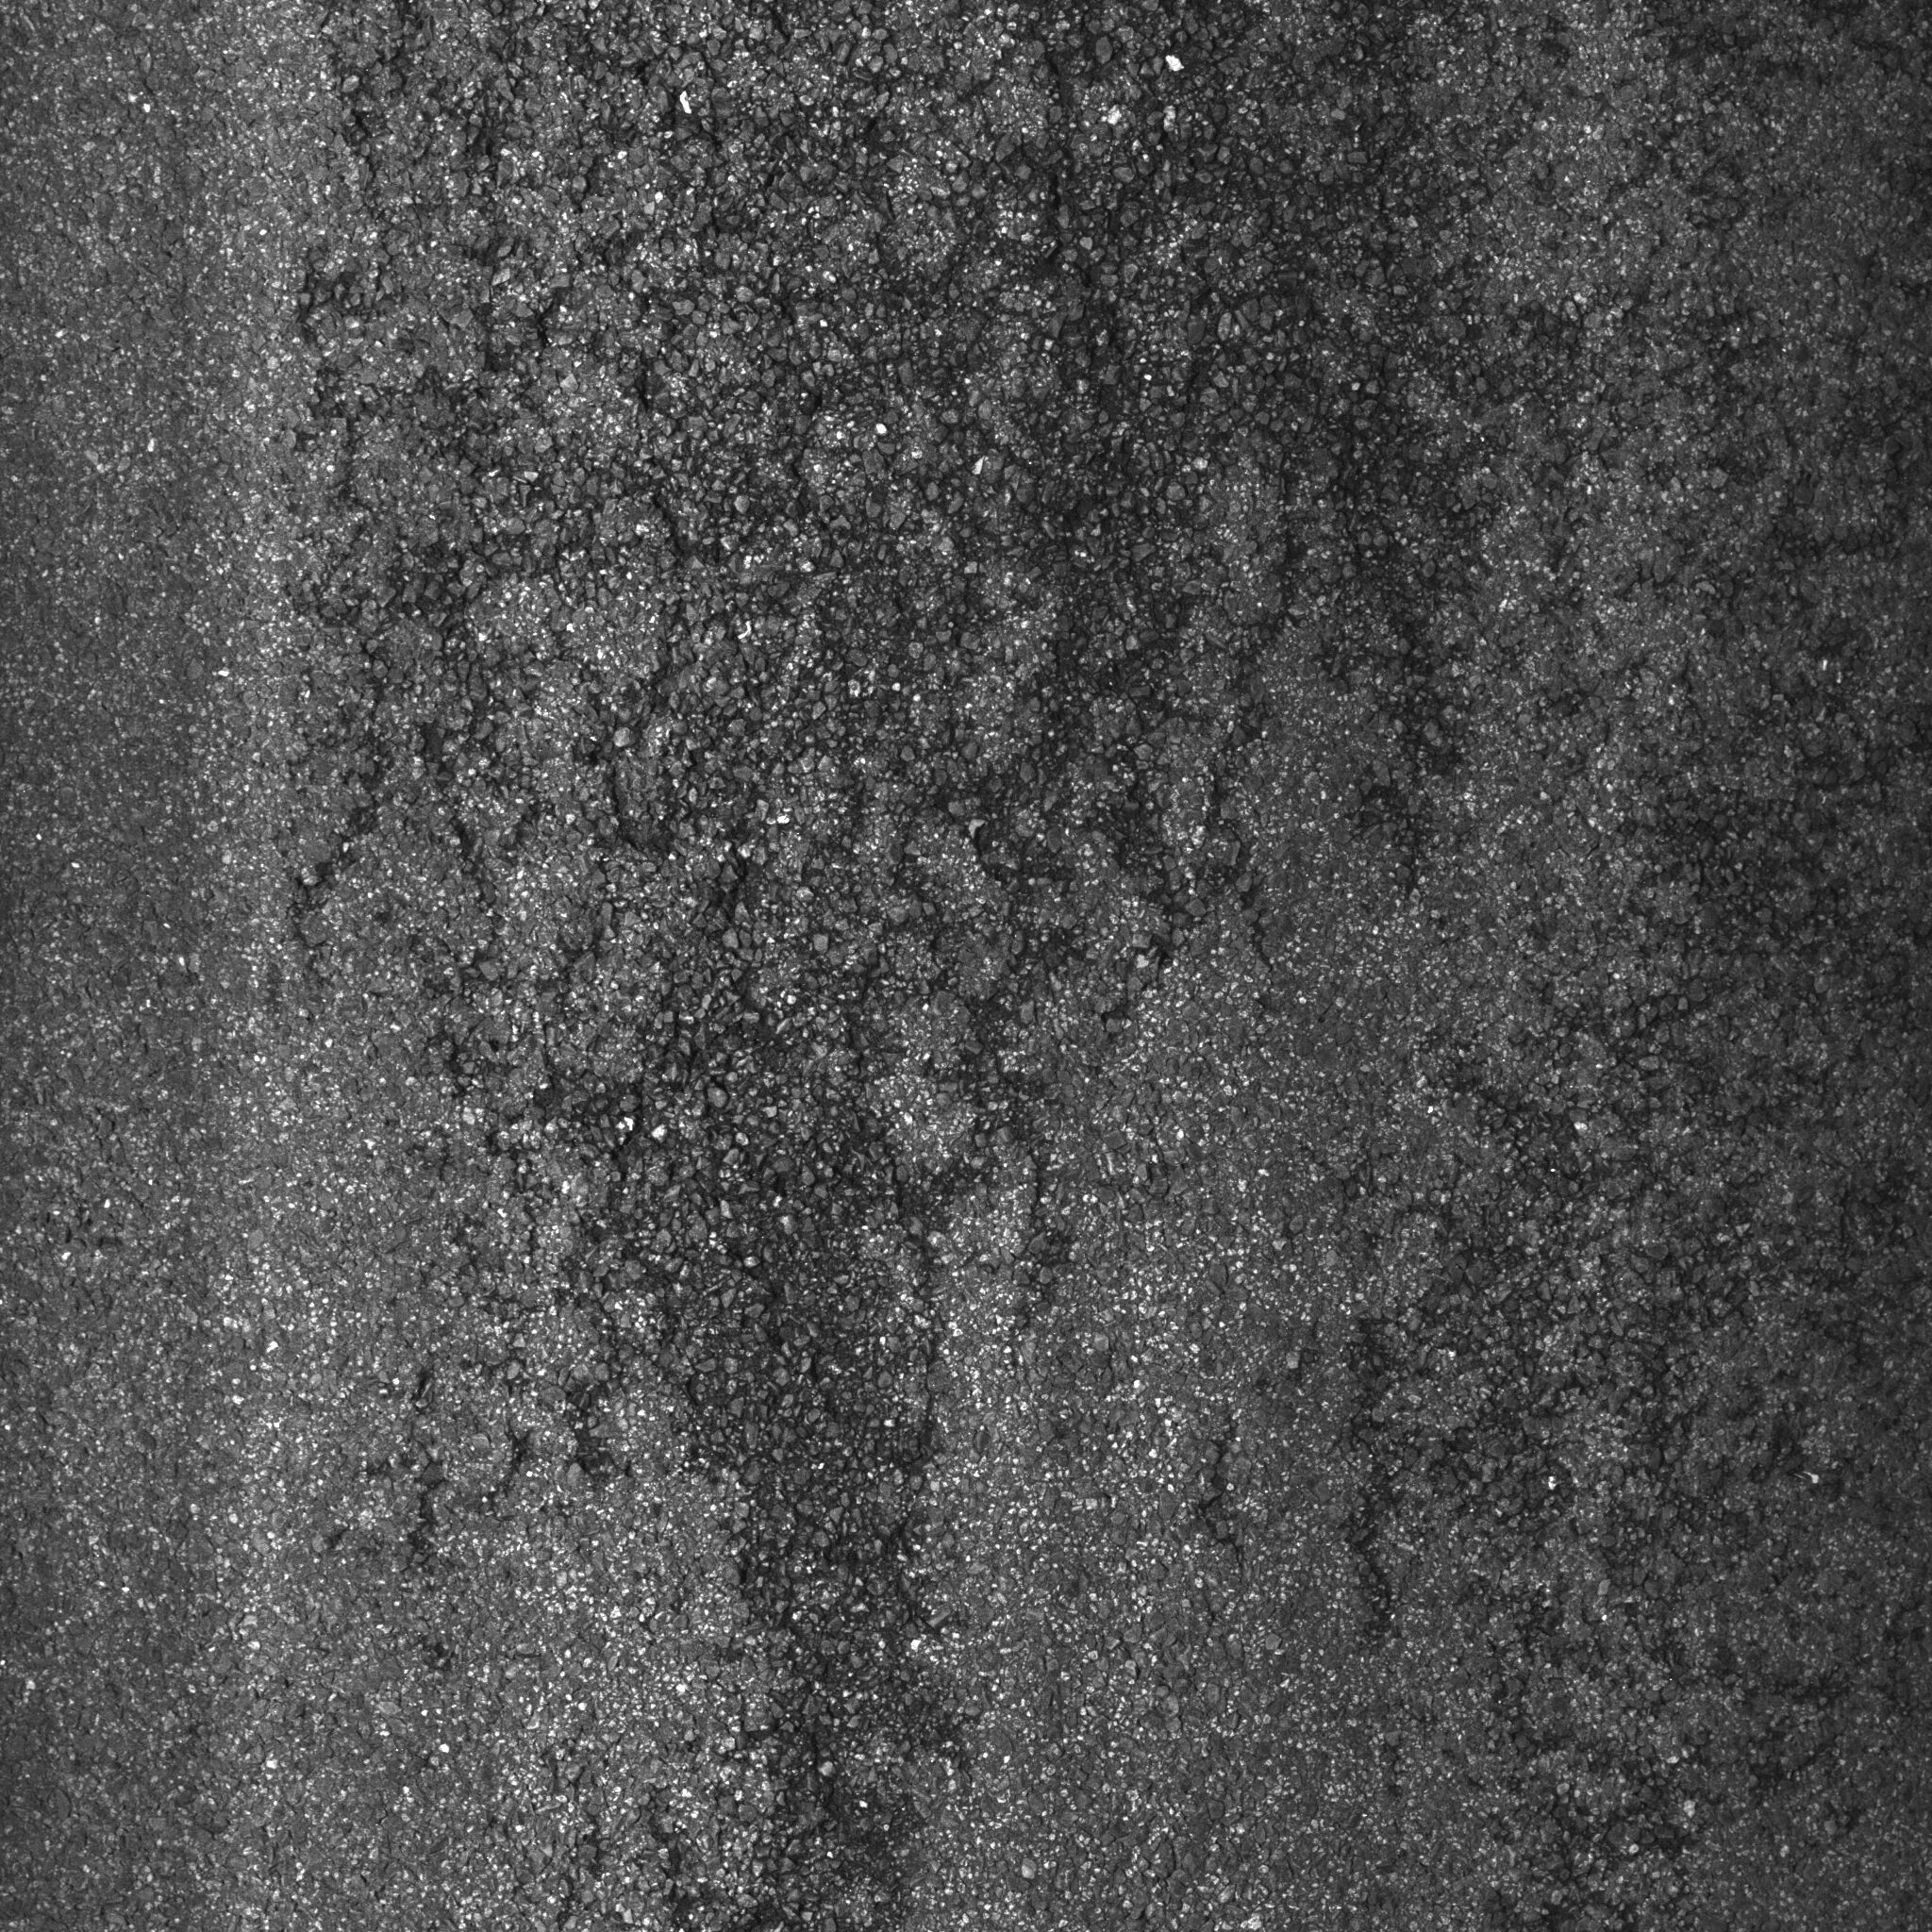alligator: (264, 7, 1633, 1893)
